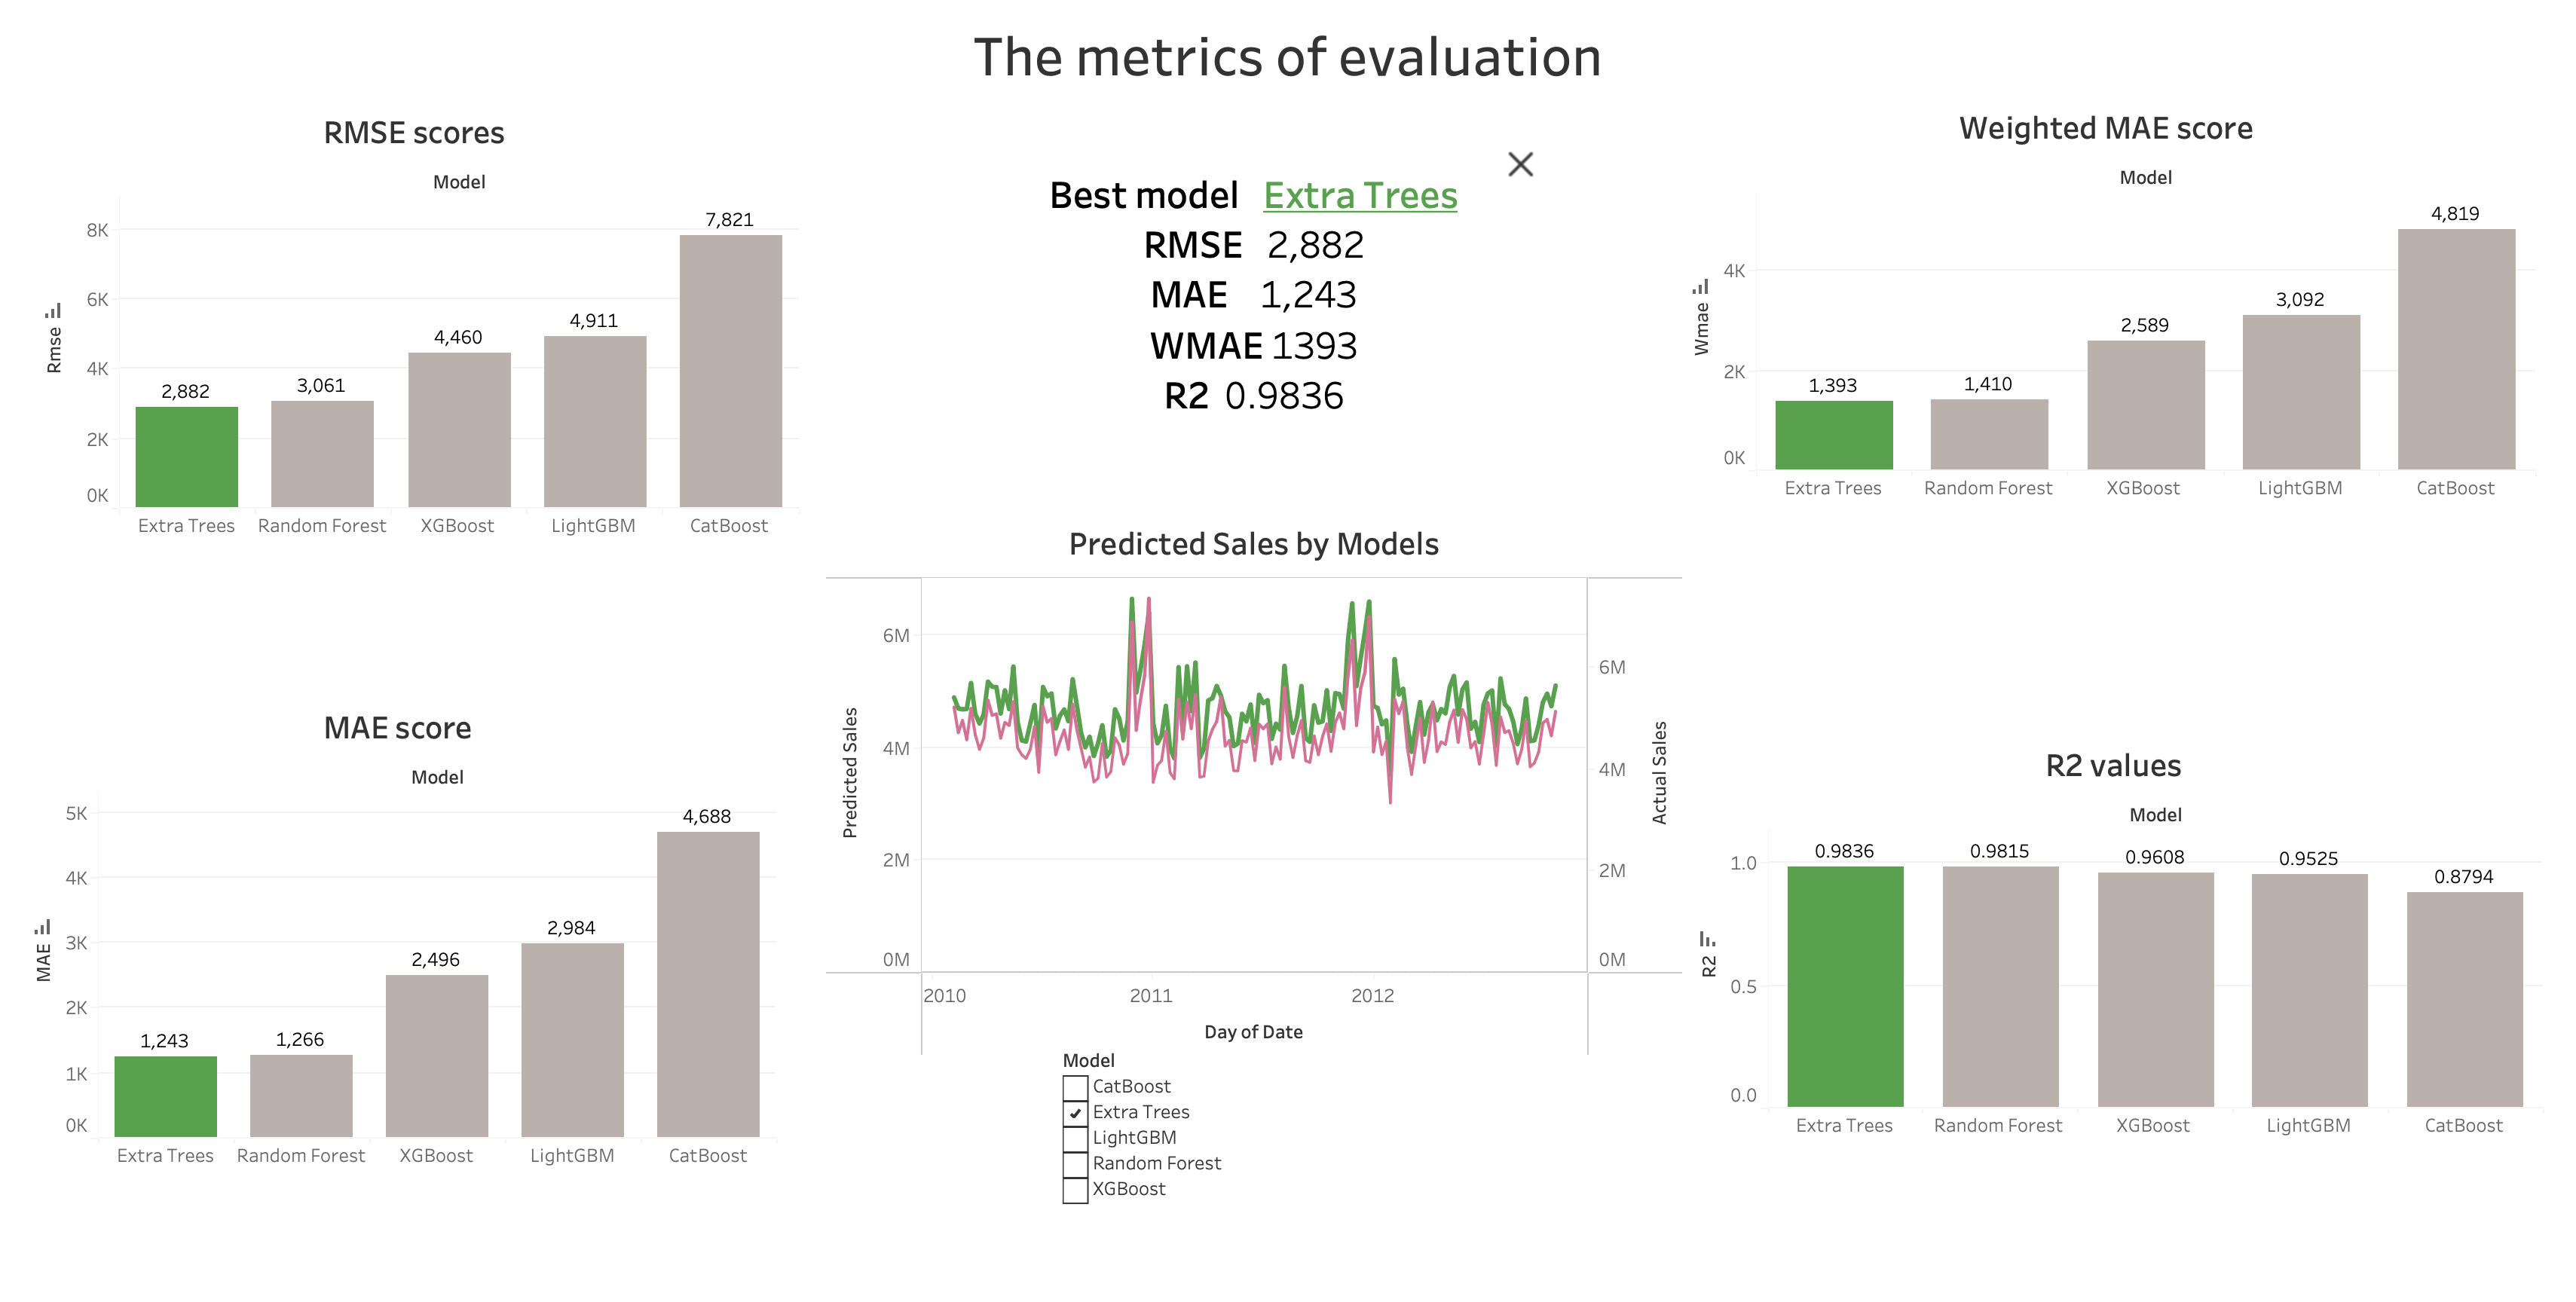

Layout of this report page (visuals, bound fields, positions):
{"tool":"tableau","page":{"name":"Dashboard 3","canvas":[1000,1000],"units":"permille","ordinal":1},"visuals":[{"type":"title","box":[4.7,9.3,990.6,64.8]},{"type":"worksheet","title":"WMAE","mark":"Bar","rows":["WMAE"],"cols":["Model"],"box":[651.3,74.1,332.9,333.3]},{"type":"worksheet","title":"rmse","mark":"Bar","rows":["RMSE"],"cols":["Model"],"box":[11.7,77.5,298.4,358.8]},{"type":"text","box":[390.3,112.3,193.1,231.5]},{"type":"dashboard-object","box":[583.4,112.3,14,27.8]},{"type":"worksheet","title":"pred_sales","mark":"Line","rows":["Predicted_Sales","Actual_Sales"],"cols":["Date"],"box":[320.7,393.5,332.9,417.8]},{"type":"worksheet","title":"mae","mark":"Automatic","rows":["MAE"],"cols":["Model"],"box":[7.6,534.7,293.7,385.4]},{"type":"worksheet","title":"R2","mark":"Automatic","rows":["R2"],"cols":["Model"],"box":[654.2,563.7,332.9,333.3]},{"type":"filter","title":"pred_sales","param":"[federated.10zw8s81nymm7c1dnygob18fq3g3].[none:Model:nk]","box":[412.5,803.2,160.3,170.1]}]}

Visuals, with their boxes on the dashboard's canvas, which has no fixed pixel size, in thousandths of its width and height (x1, y1, x2, y2). These are canvas units, not pixel positions in the 2576x1302 screenshot, which may show the page scaled, cropped or inside an application window:
title: {"left": 5, "top": 9, "right": 995, "bottom": 74}
"WMAE" worksheet (Bar marks): {"left": 651, "top": 74, "right": 984, "bottom": 407}
"rmse" worksheet (Bar marks): {"left": 12, "top": 78, "right": 310, "bottom": 436}
text: {"left": 390, "top": 112, "right": 583, "bottom": 344}
dashboard-object: {"left": 583, "top": 112, "right": 597, "bottom": 140}
"pred_sales" worksheet (Line marks): {"left": 321, "top": 394, "right": 654, "bottom": 811}
"mae" worksheet: {"left": 8, "top": 535, "right": 301, "bottom": 920}
"R2" worksheet: {"left": 654, "top": 564, "right": 987, "bottom": 897}
"pred_sales" filter: {"left": 412, "top": 803, "right": 573, "bottom": 973}
